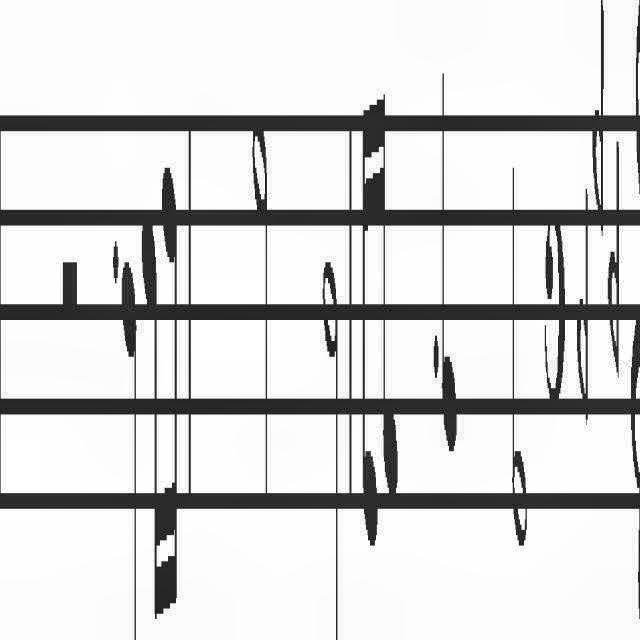Bass-clef: (627, 0, 640, 640), (639, 0, 640, 640)
Bemol: (575, 166, 593, 470), (606, 111, 626, 365), (595, 0, 609, 240)
Half-note: (241, 48, 285, 634), (508, 93, 532, 569), (318, 237, 342, 638)
Quarter-note: (440, 75, 464, 485), (124, 225, 140, 640)
Sixteenth-note: (381, 43, 404, 551), (361, 61, 379, 580), (141, 178, 161, 640), (163, 115, 180, 640)
